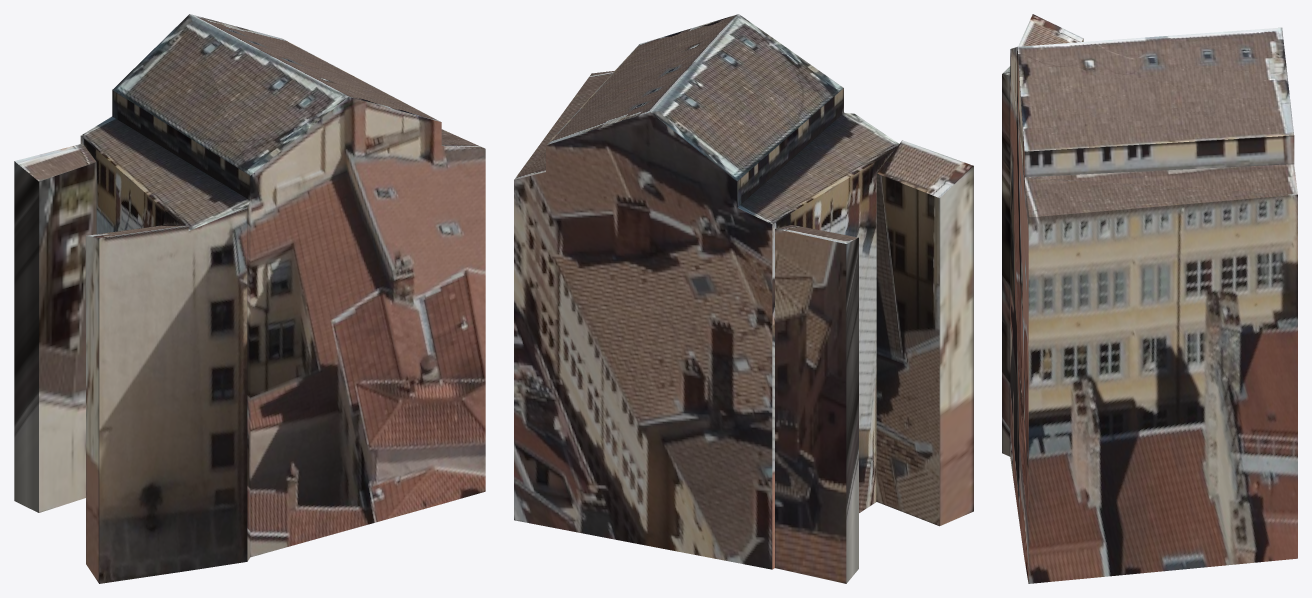
The picture shows the model from 3 angles, left to right: view 1: azimuth 30°, elevation 25°; view 2: azimuth 150°, elevation 25°; view 3: azimuth 270°, elevation 25°; orthographic projection. The views are drawn at different scales.
Parts seen in each view (by area): view 1: Z_UP; view 2: Z_UP; view 3: Z_UP.
Part boxes in pixels (<box>): Z_UP: <box>14,14,485,583</box>; Z_UP: <box>514,14,973,583</box>; Z_UP: <box>1002,14,1297,583</box>.
Size of the model in its own units: 24.07 by 25.97 by 15.01.
Materials: 2 (1 with a texture image).
